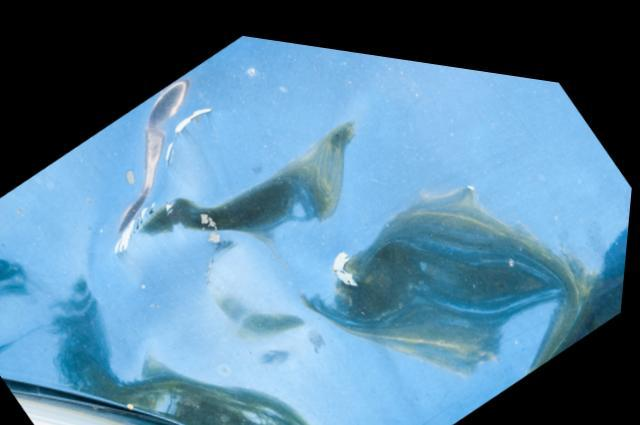dent: (0, 80, 582, 425)
